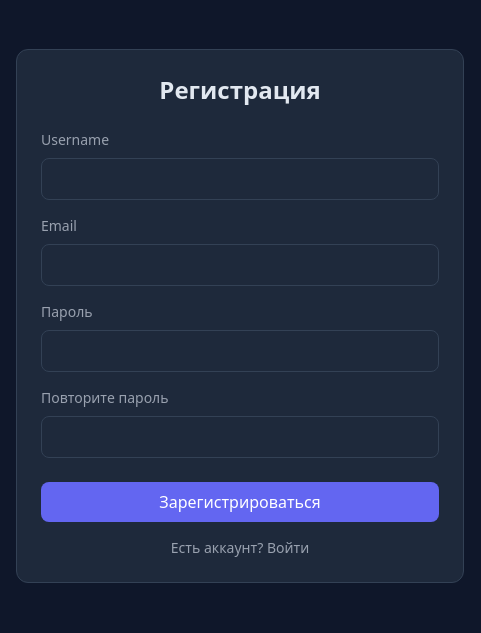
Test case: RegisterPage › shows error message on failed registration
Type "existing" into the field below "Username" at {"x": 240, "y": 179}, box x1=41 y1=158 x2=439 y2=200
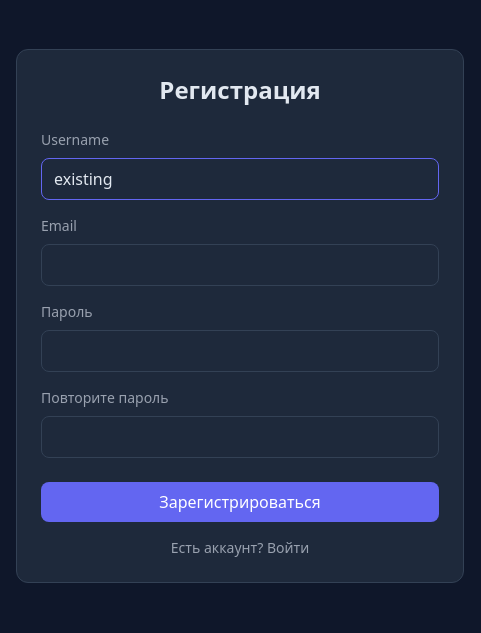
Type "e@e.com" into the field below "Email" at {"x": 240, "y": 265}, box x1=41 y1=244 x2=439 y2=286
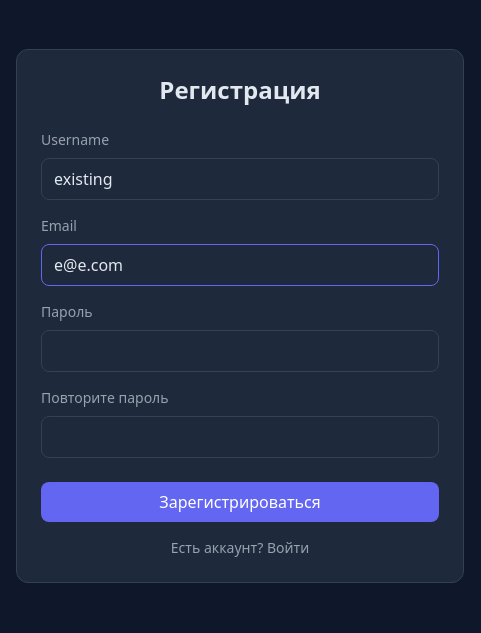
Type "longenough" into the 1st password field at {"x": 240, "y": 351}, box x1=41 y1=330 x2=439 y2=372
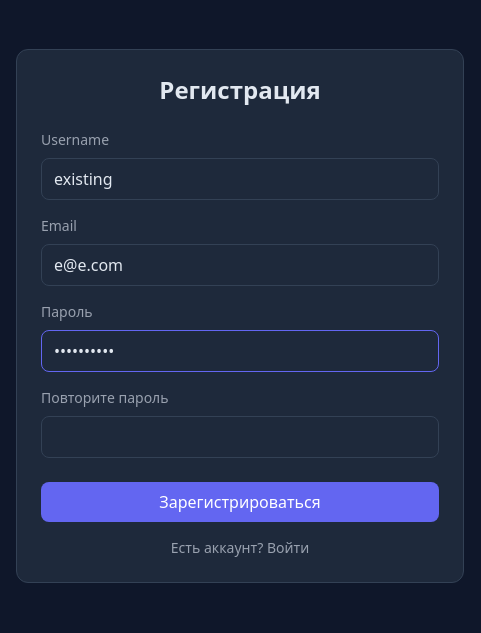
Type "longenough" into the password field below "Повторите пароль" at {"x": 240, "y": 437}, box x1=41 y1=416 x2=439 y2=458
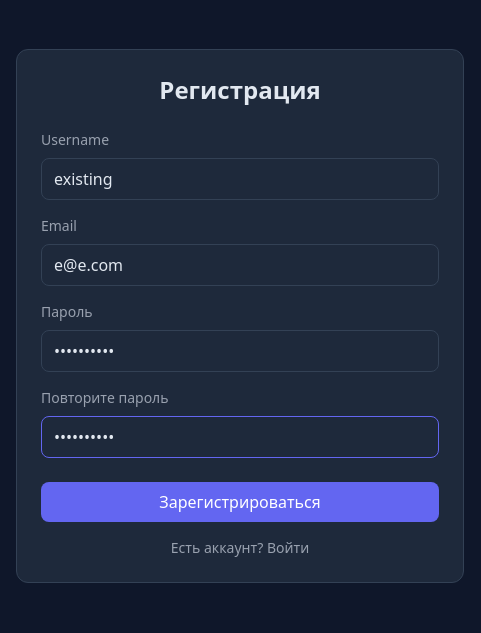
Click the button "Зарегистрироваться" at {"x": 240, "y": 502}, box x1=41 y1=482 x2=439 y2=522
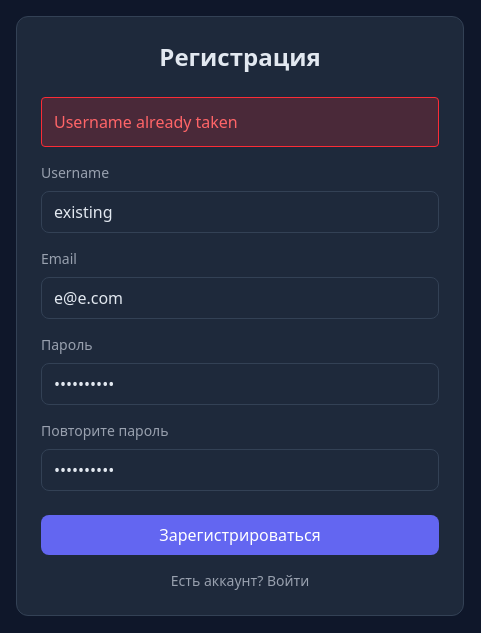
Now the text "Username already taken" is shown, box x1=41 y1=97 x2=439 y2=147
